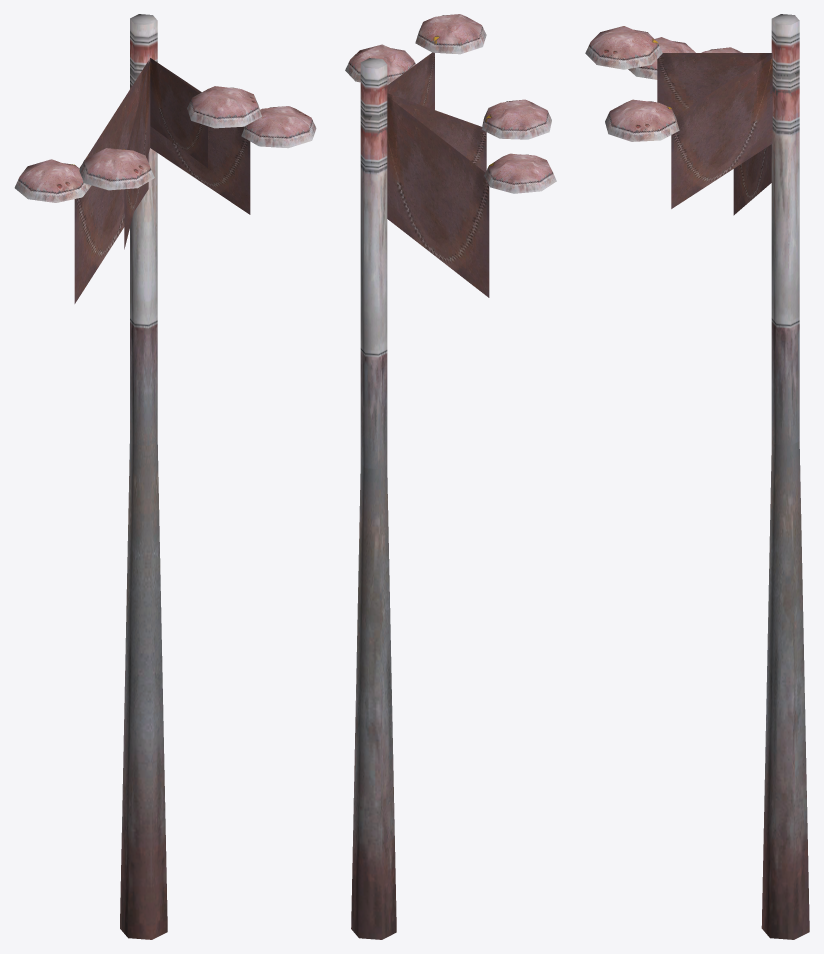
Rendered from mun_all_imprv_streetlamp_m_s02_l1.fbx.
3 renders of one model, left to right at view 1: azimuth 30°, elevation 25°; view 2: azimuth 150°, elevation 25°; view 3: azimuth 270°, elevation 25°, orthographic. The views are drawn at different scales.
Visible parts, largest first — view 1: mesh_node; view 2: mesh_node; view 3: mesh_node.
Part boxes in pixels (x1,y1,x2,y2): mesh_node: (14, 14, 316, 939); mesh_node: (345, 14, 556, 939); mesh_node: (585, 14, 809, 939).
Bounding box in the file's own units: 0.8557 × 2.98 × 0.6663.
